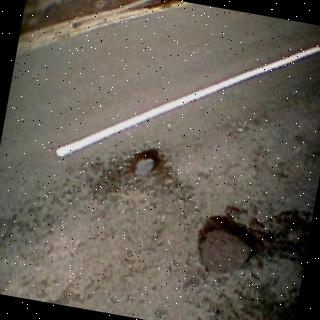pothole: (197, 216, 264, 274), (129, 149, 165, 178)
